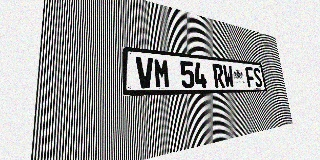4: (193, 62, 207, 88)
5: (180, 61, 195, 88)
F: (245, 67, 256, 87)
M: (153, 58, 171, 88)
R: (212, 64, 225, 88)
S: (252, 67, 263, 87)
V: (136, 56, 154, 89)
W: (222, 65, 235, 88)
